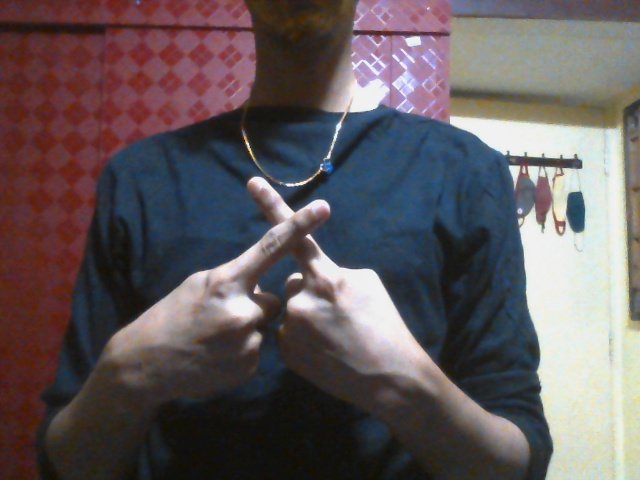X: (128, 175, 402, 420)
